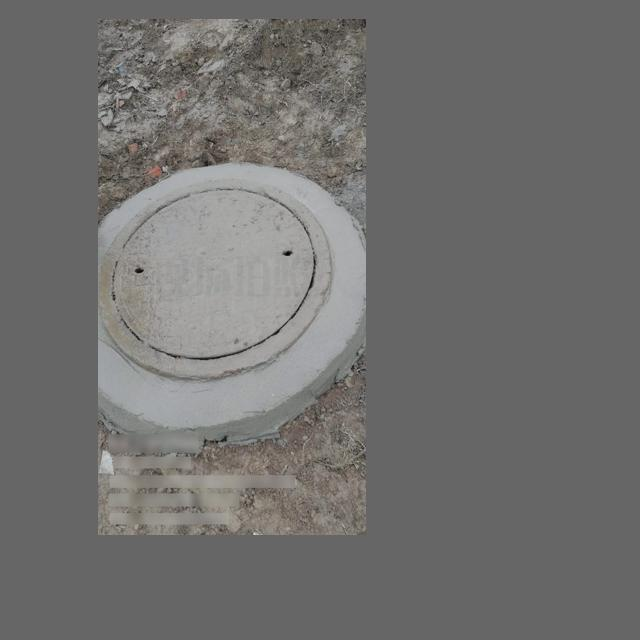good: (98, 178, 330, 380)
